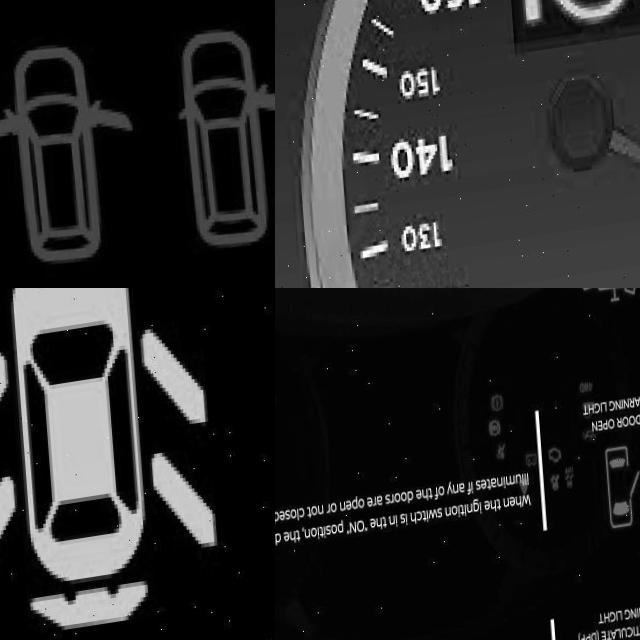Electronic Power Steering Warning: (505, 0, 640, 45)
